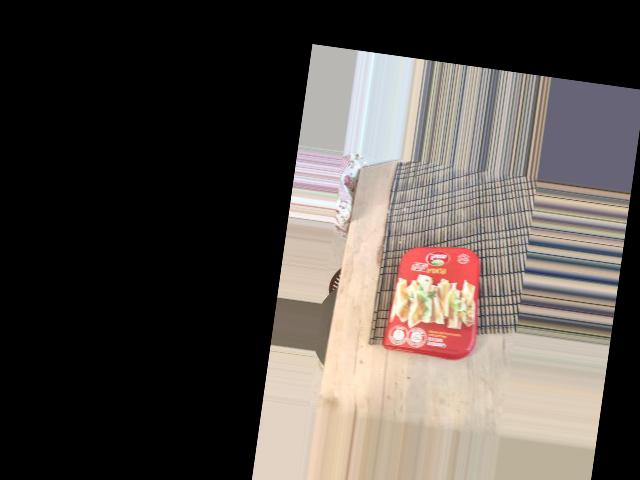cheese: (387, 240, 479, 365)
